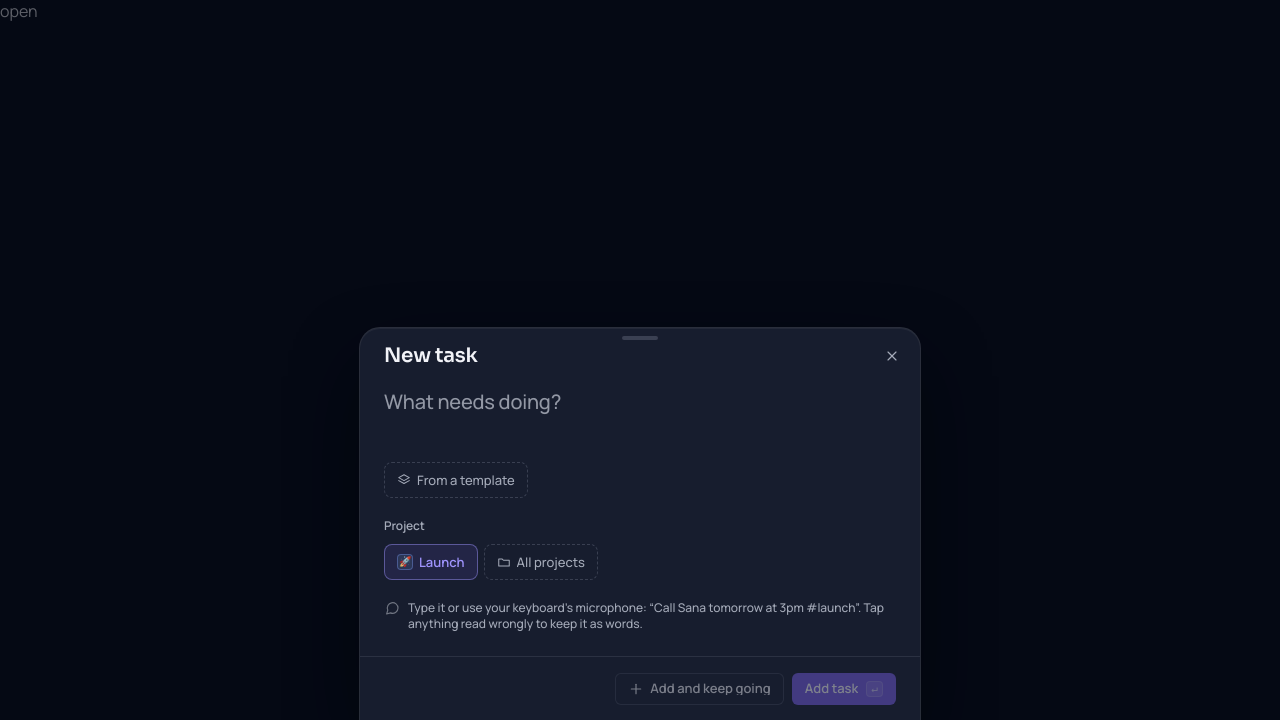
Test: Quick add from a template › “/bug” then ⏎ picks it (nothing is added yet): the title takes the field, its placeholder selected, a strip says what it adds
Type "/bug" into the text box named "Task, in your own words" at (640, 416), box x1=384 y1=388 x2=896 y2=444
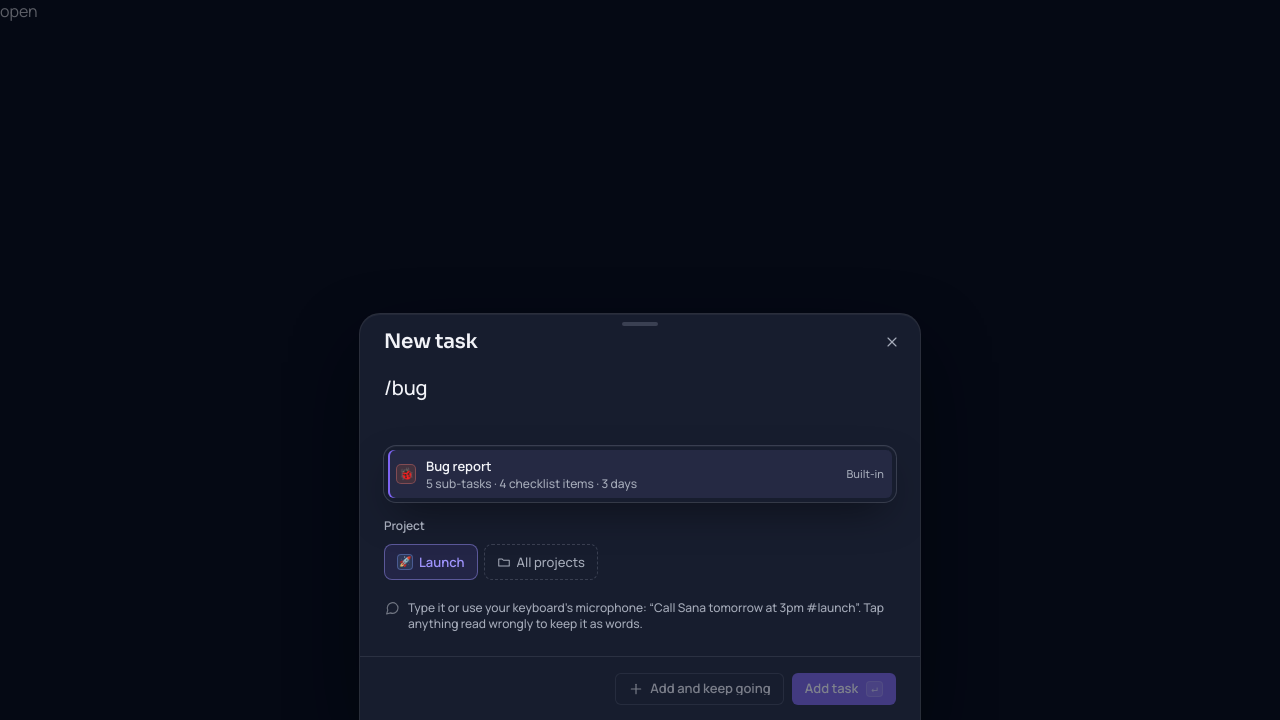
Expected: the button "Add task ↵" is disabled, x1=792 y1=672 x2=896 y2=704
Press Enter in the text box named "Task, in your own words", box x1=384 y1=374 x2=896 y2=430
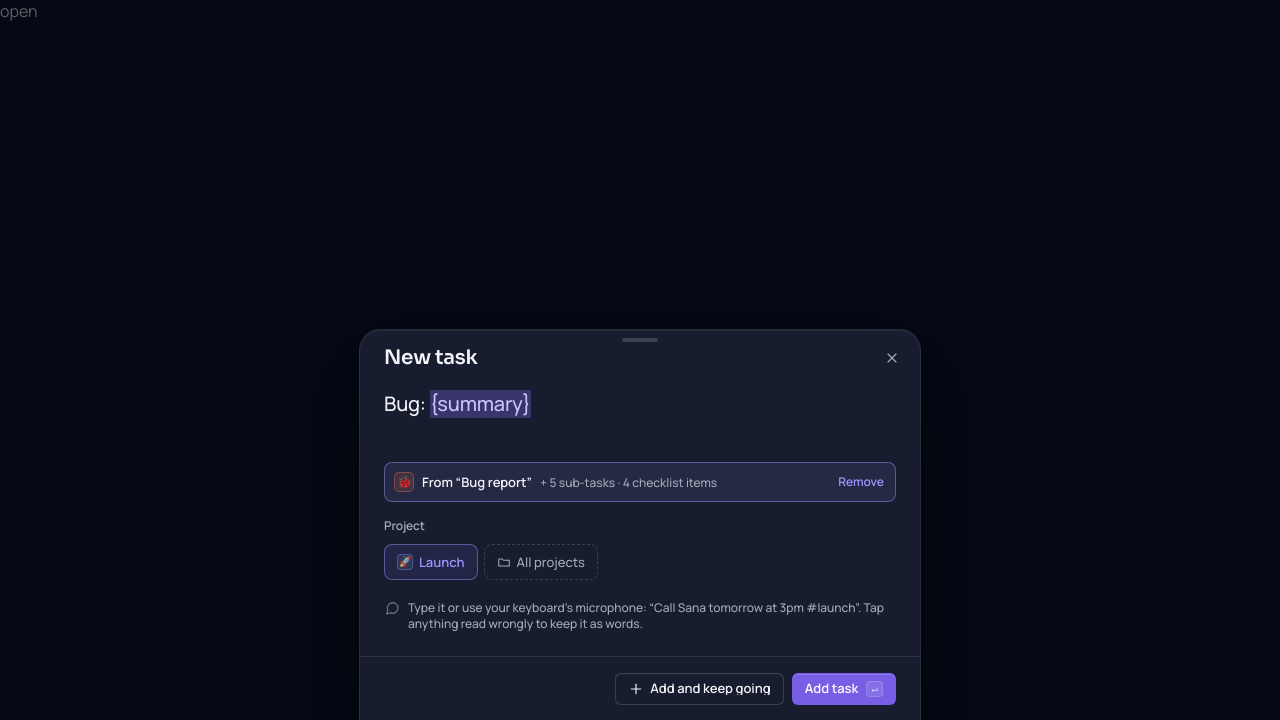
Now the text box named "Task, in your own words" holds "Bug: {summary}", box x1=384 y1=390 x2=896 y2=446
